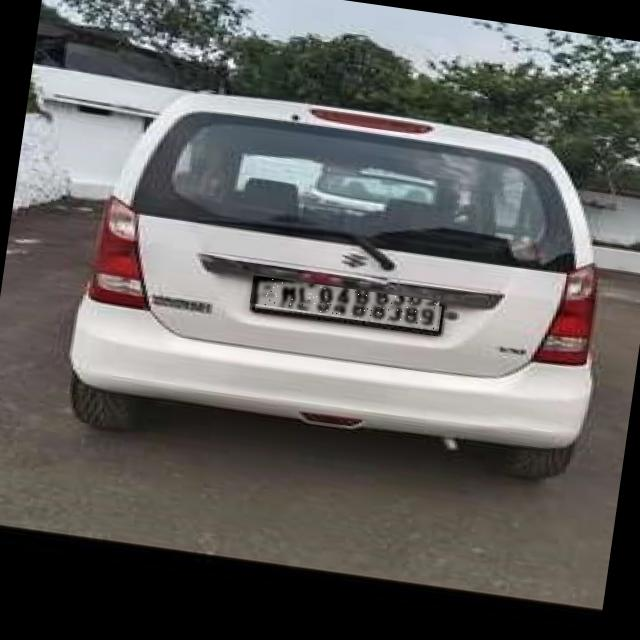Plate: (251, 277, 441, 331)
